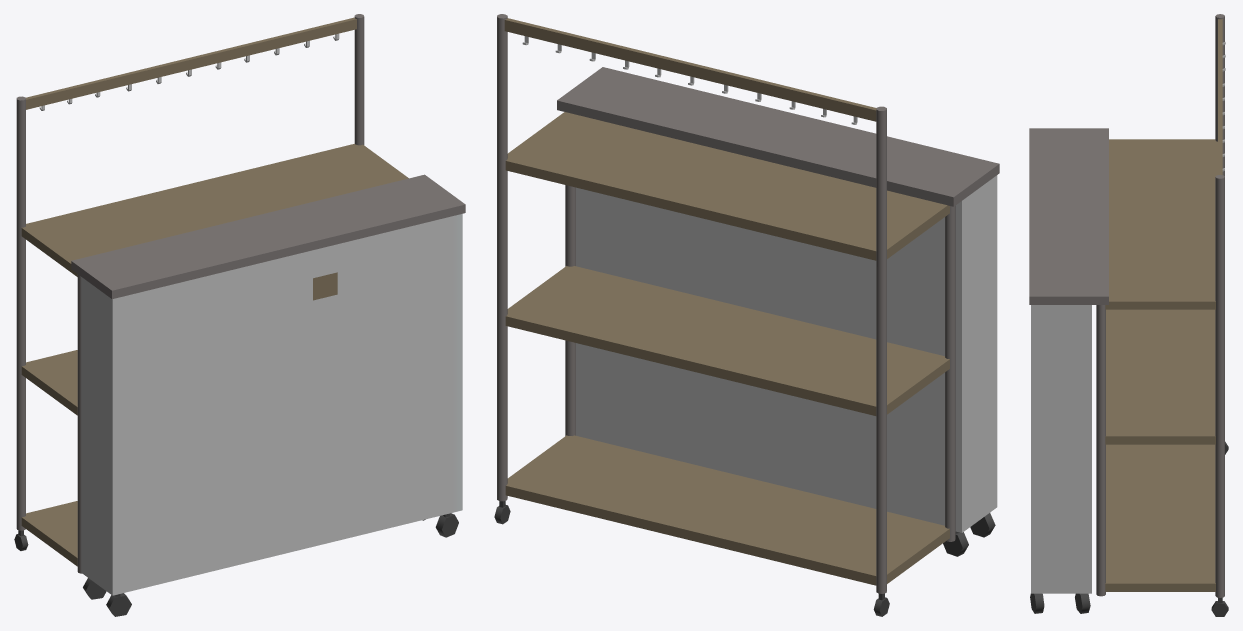
File: SM_Rack_02.FBX
3 views of the same model, side by side, from view 1: azimuth 30°, elevation 25°; view 2: azimuth 150°, elevation 25°; view 3: azimuth 270°, elevation 25° (orthographic). The views are drawn at different scales.
Parts seen in each view (by area): view 1: SM_Rack_02; view 2: SM_Rack_02; view 3: SM_Rack_02.
Part boxes in pixels (x1,y1,x2,y2): SM_Rack_02: (14, 14, 465, 616); SM_Rack_02: (494, 14, 999, 616); SM_Rack_02: (1029, 14, 1228, 616).
Size of the model in its own units: 157 by 191 by 79.26.
Materials: 3 (3 with a texture image).
